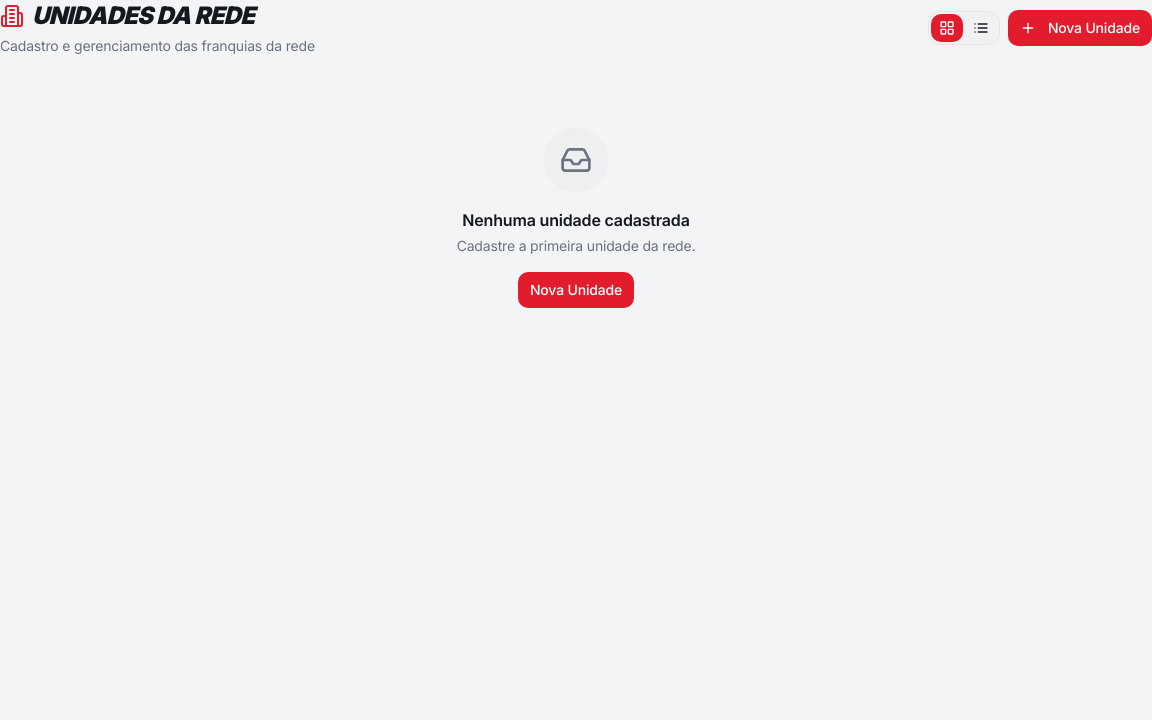
Test case: Unidades — Wizard de Provisionamento › abre wizard no passo 1 ao clicar Nova Unidade
This screenshot has width=1152, height=720.
Click the button "Nova Unidade" in the row of "Unidades da Rede" at (1080, 28), box left=1008, top=10, right=1151, bottom=46
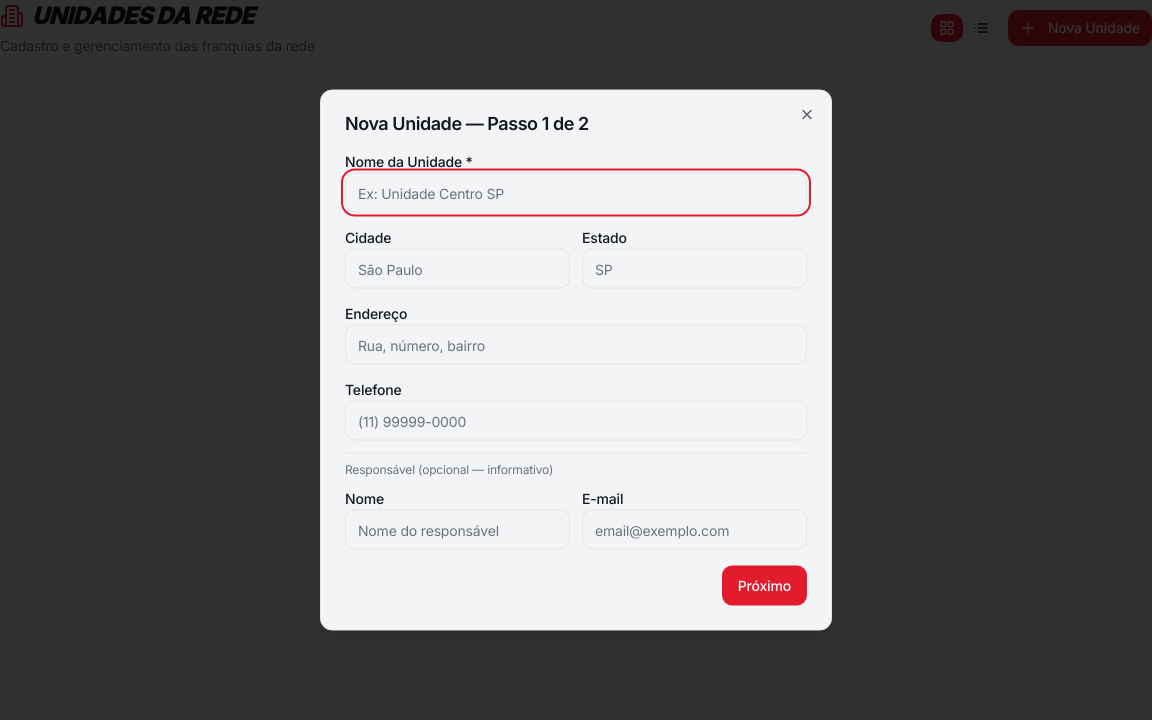
Expected: the heading "Nova Unidade — Passo 1 de 2" is shown, left=345, top=112, right=589, bottom=134
Expected: the field with placeholder "Ex: Unidade Centro SP" is shown, left=345, top=172, right=807, bottom=212
